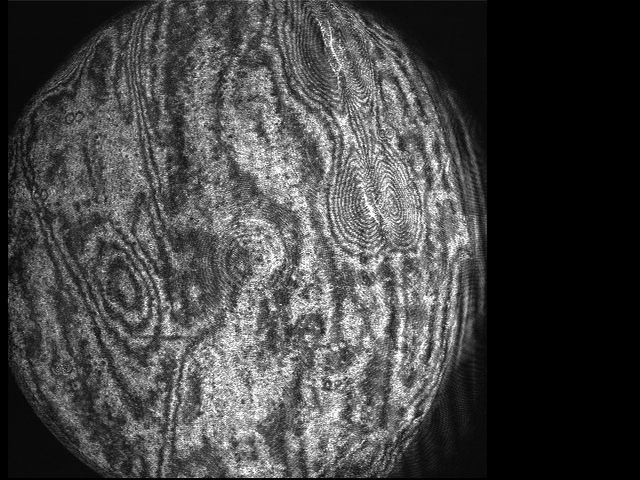plume: (331, 150, 420, 253)
